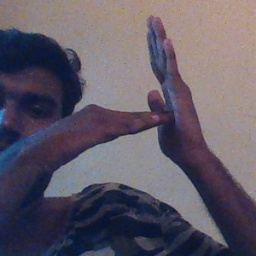Z: (95, 14, 208, 174)
